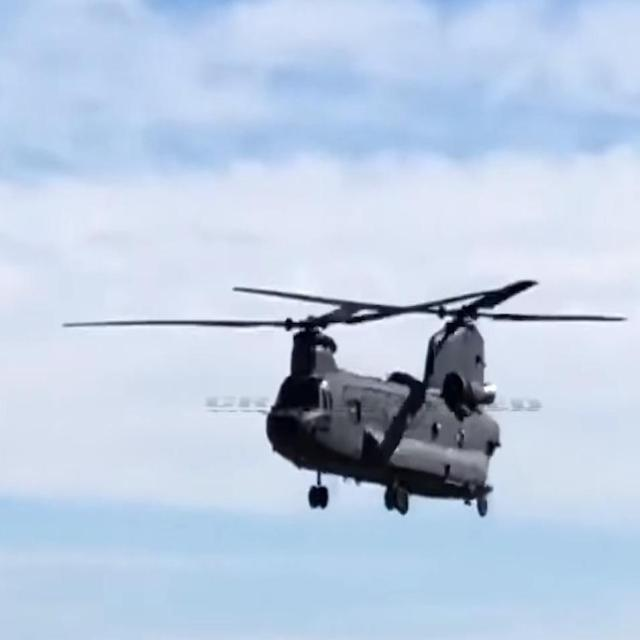Helicopter: (225, 276, 558, 538)
